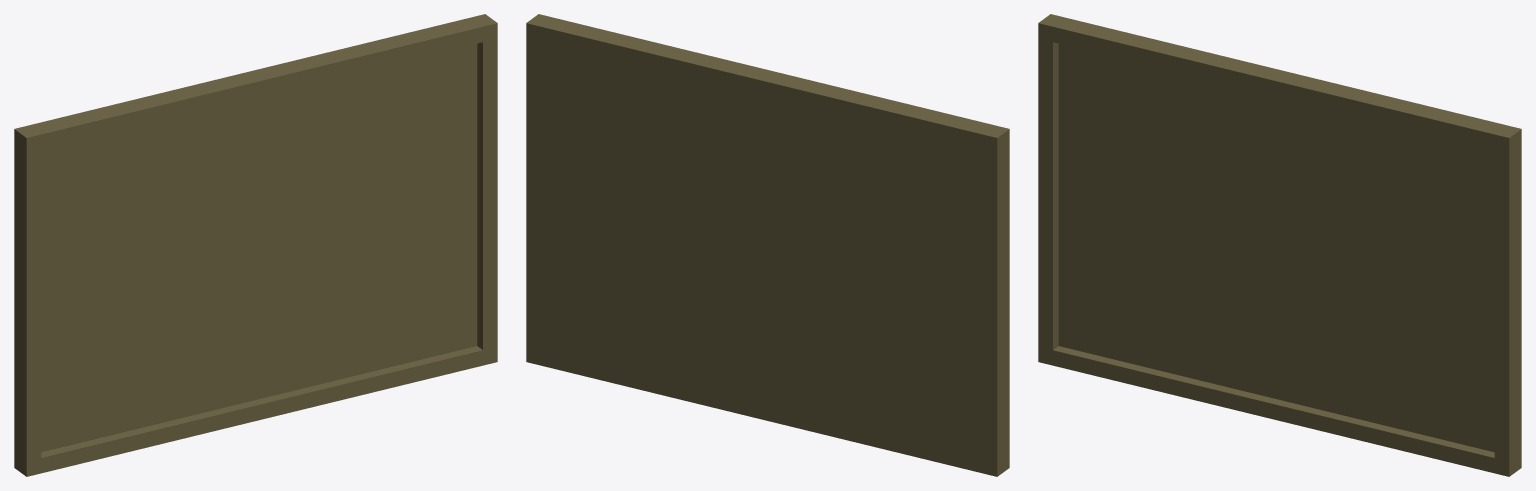
The model's file is Corkboard.fbx.
3 views of the same model, side by side, from view 1: azimuth 30°, elevation 25°; view 2: azimuth 150°, elevation 25°; view 3: azimuth 330°, elevation 25° (orthographic).
Visible parts, largest first — view 1: Cork_Board; view 2: Cork_Board; view 3: Cork_Board.
Boxes of the visible parts, left/top/right/bottom form: Cork_Board: left=14, top=14, right=497, bottom=476; Cork_Board: left=526, top=14, right=1009, bottom=476; Cork_Board: left=1038, top=14, right=1521, bottom=476.
Size of the model in its own units: 3.2 by 2.2 by 0.147.
